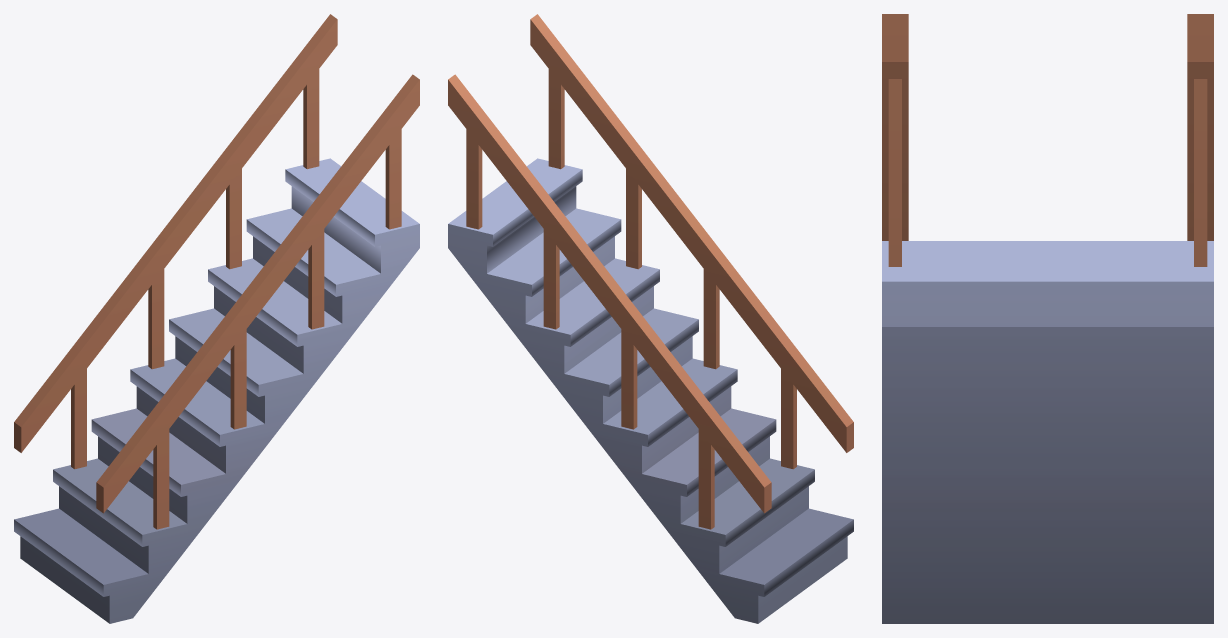
File: kenney-fantasy-town-stairs-stone-handrail.glb
3 views of the same model, side by side, from view 1: azimuth 30°, elevation 25°; view 2: azimuth 150°, elevation 25°; view 3: azimuth 270°, elevation 25° (orthographic). The views are drawn at different scales.
Parts seen in each view (by area): view 1: stairs-stone-handrail; view 2: stairs-stone-handrail; view 3: stairs-stone-handrail.
Boxes of the visible parts, <box> form: stairs-stone-handrail: <box>14,14,419,623</box>; stairs-stone-handrail: <box>448,14,853,623</box>; stairs-stone-handrail: <box>882,14,1213,623</box>.
Size of the model in its own units: 1.02 by 1.45 by 0.5.
Materials: 1 (1 with a texture image).
